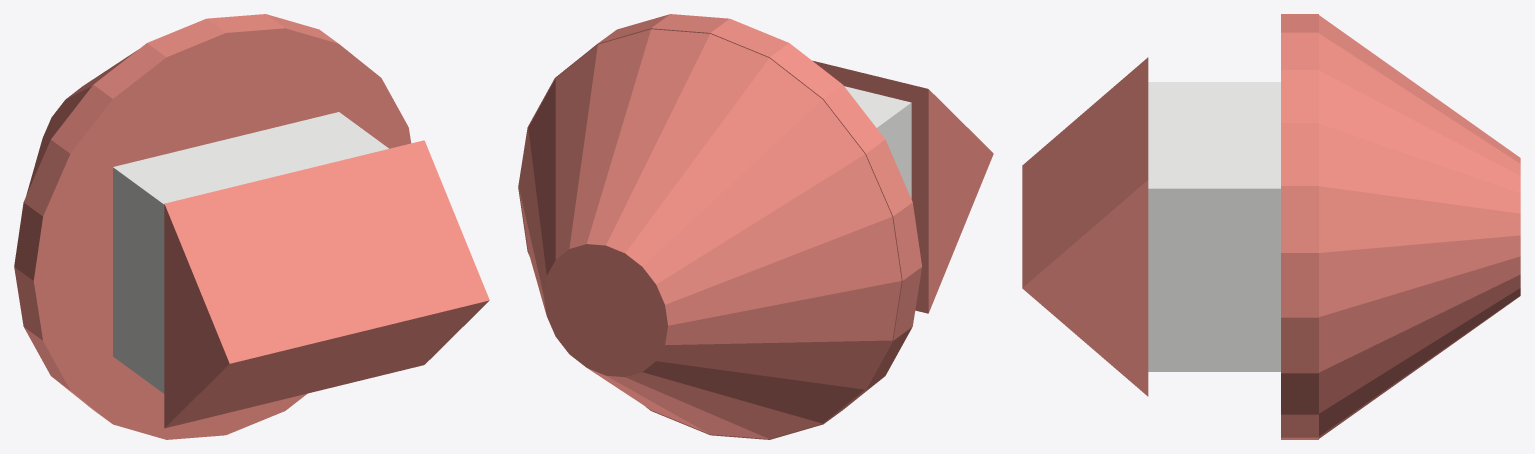
Rendered from 5_pin_house.glb.
The picture shows the model from 3 angles, left to right: view 1: azimuth 30°, elevation 25°; view 2: azimuth 150°, elevation 25°; view 3: azimuth 270°, elevation 25°; orthographic projection. The views are drawn at different scales.
Parts seen in each view (by area): view 1: accent, body; view 2: accent, body; view 3: accent, body.
Part boxes in pixels (box(x1,y1,x2,y2)): accent: box(14, 14, 489, 439); body: box(113, 112, 388, 393); accent: box(518, 14, 993, 439); body: box(844, 86, 911, 198); accent: box(1022, 14, 1520, 439); body: box(1148, 82, 1280, 371).
Bounding box in the file's own units: 3.4 × 3.4 × 3.95.
